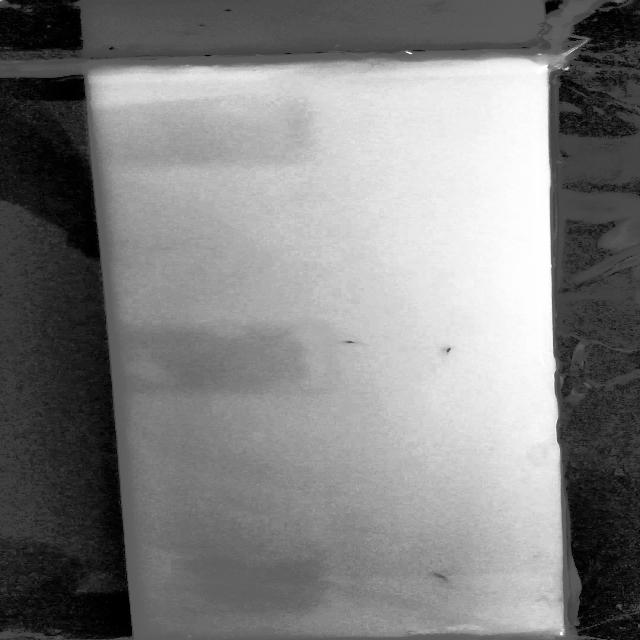shrimp: (433, 343, 462, 357), (335, 336, 368, 348), (432, 572, 459, 584)
